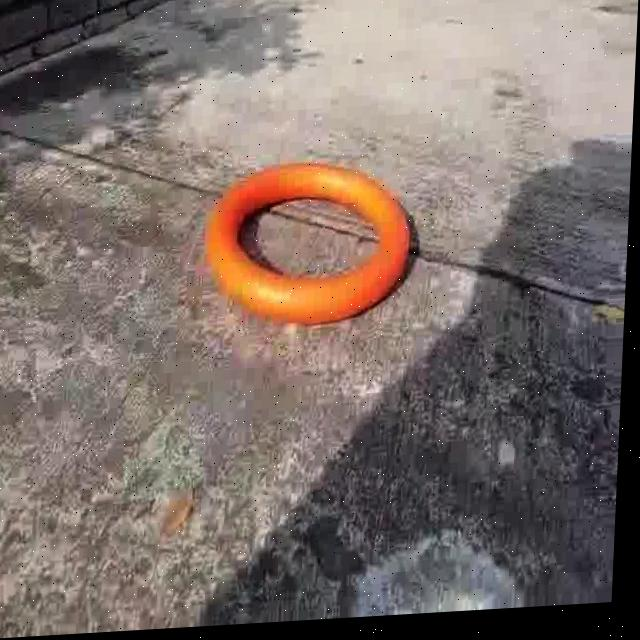note: (201, 159, 423, 340)
